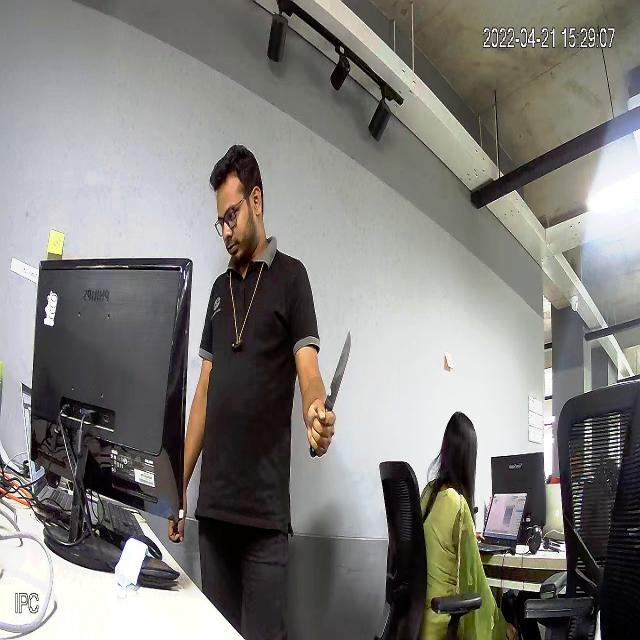Knife: (317, 320, 364, 433)
